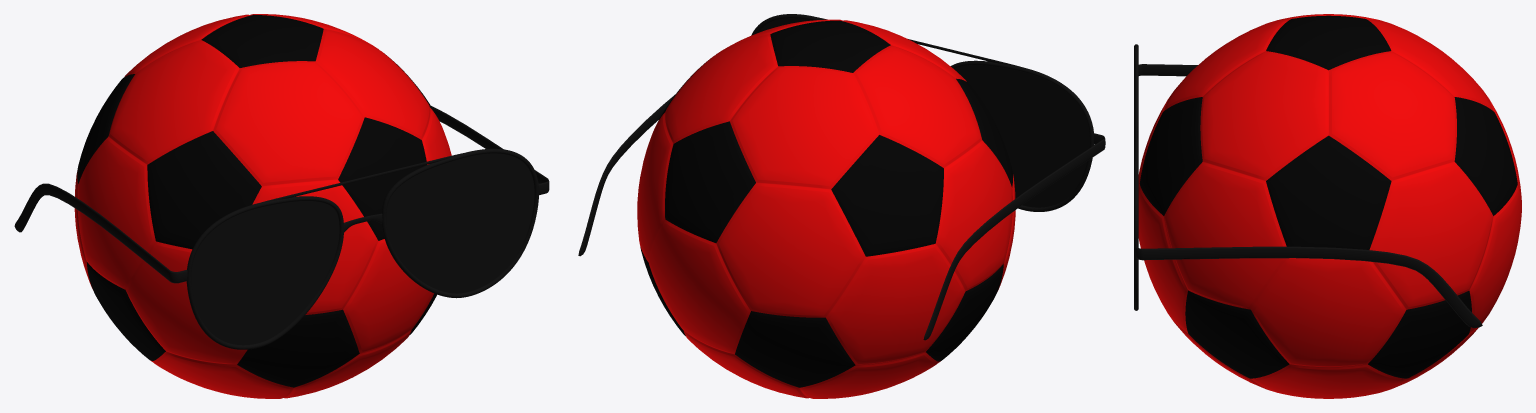
File: Balonalm.glb
3 views of the same model, side by side, from view 1: azimuth 30°, elevation 25°; view 2: azimuth 150°, elevation 25°; view 3: azimuth 270°, elevation 25° (orthographic).
Parts seen in each view (by area): view 1: Esfera geodésica, Círculo Bezier, Círculo Bezier.001, Cubo.002, Cubo.003, Cubo.001; view 2: Esfera geodésica, Círculo Bezier, Cubo.002, Cubo.003, Círculo Bezier.001; view 3: Esfera geodésica, Cubo.003, Círculo Bezier.001, Cubo.002, Círculo Bezier.
Part boxes in pixels (bbox=[...]): Esfera geodésica: bbox=[74, 14, 451, 398]; Círculo Bezier: bbox=[186, 196, 343, 349]; Círculo Bezier.001: bbox=[381, 148, 538, 298]; Cubo.002: bbox=[14, 183, 187, 283]; Cubo.003: bbox=[431, 106, 549, 195]; Cubo.001: bbox=[252, 151, 473, 205]; Esfera geodésica: bbox=[637, 19, 1015, 398]; Círculo Bezier: bbox=[950, 60, 1094, 211]; Cubo.002: bbox=[923, 133, 1105, 340]; Cubo.003: bbox=[578, 95, 674, 256]; Círculo Bezier.001: bbox=[751, 14, 823, 35]; Esfera geodésica: bbox=[1138, 14, 1521, 398]; Cubo.003: bbox=[1135, 243, 1482, 327]; Círculo Bezier.001: bbox=[1134, 137, 1138, 310]; Cubo.002: bbox=[1138, 64, 1197, 76]; Círculo Bezier: bbox=[1134, 44, 1138, 138].
Size of the model in its own units: 2 by 1.75 by 1.76.
